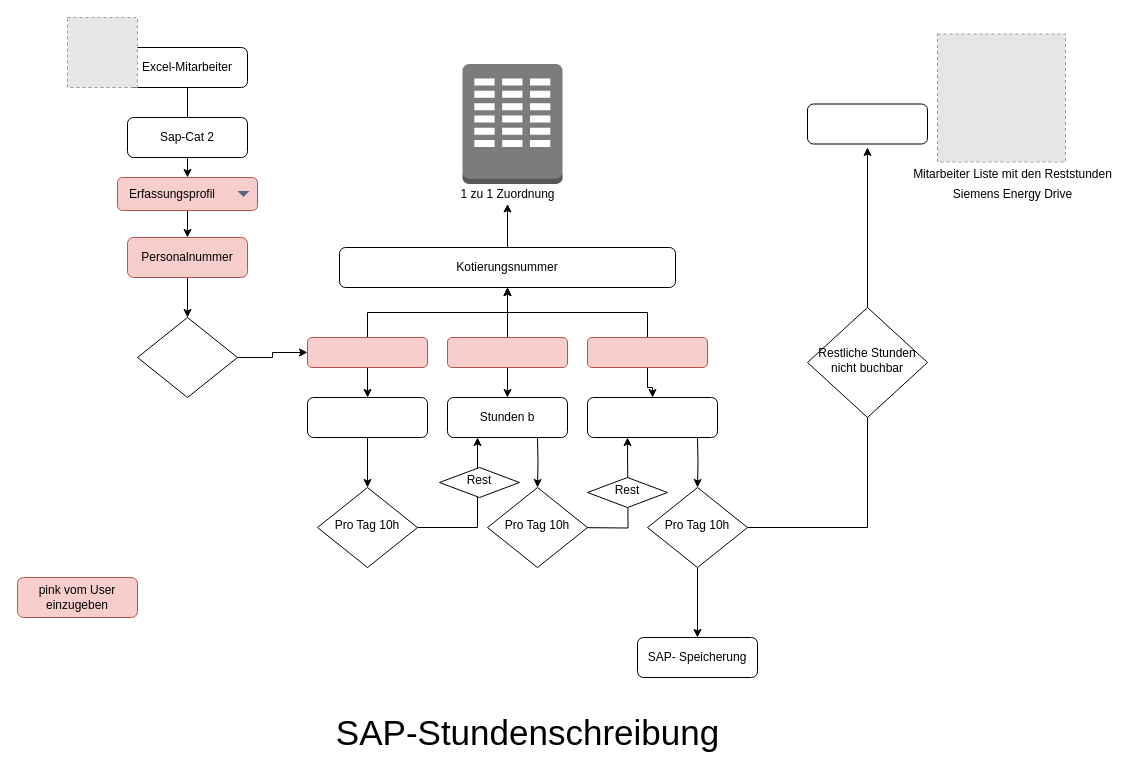
The diagram is 1135 pixels wide and 771 high, and some of its shapes have lost their labels. Grey dashed boxes stand in for pictures. The shapes that lost their labels are listed below. From the top down, each one's centre as x and y in pixels, then its label:
the point at 867,123: Output
the point at 187,357: Sap aktueller Monat
the point at 367,352: Projekt a
the point at 507,352: Projekt b
the point at 647,352: Projekt c
the point at 367,417: Stunden a
the point at 652,417: Stunden c
